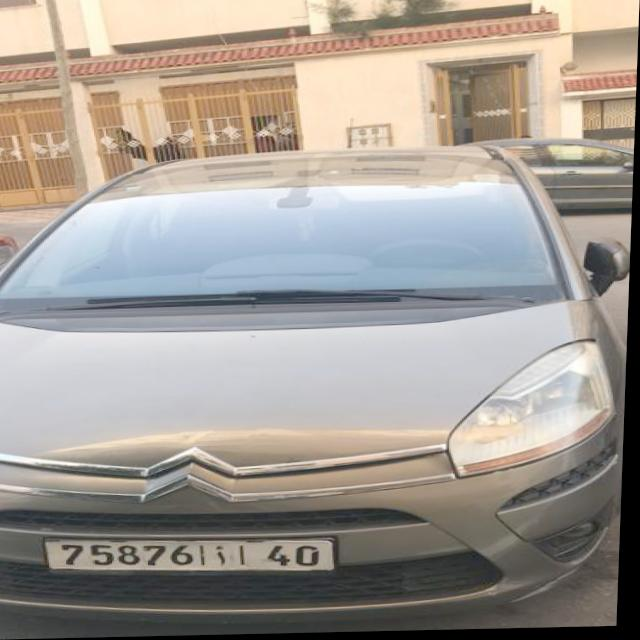License-Plate: (49, 540, 339, 572)
